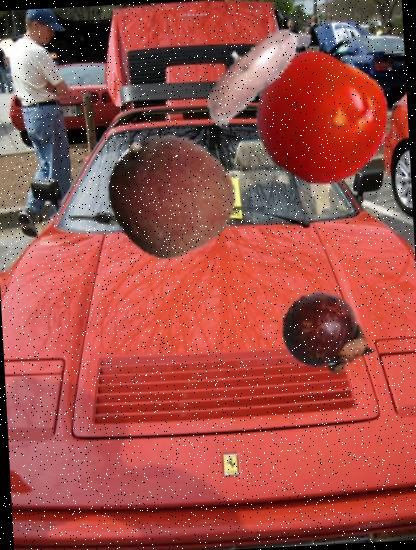Banana: (184, 0, 323, 138)
Mangostan: (278, 286, 379, 386)
Peach: (104, 130, 237, 263)
Tomato: (252, 50, 390, 186)
